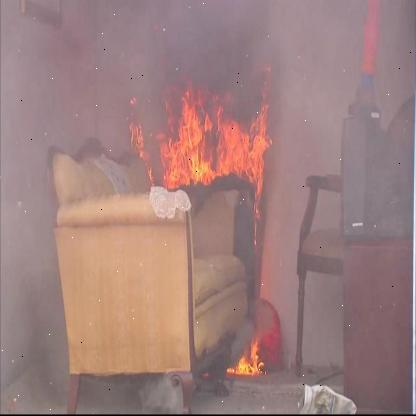fire: (142, 66, 276, 227), (221, 325, 264, 379)
smoke: (0, 0, 416, 416)
